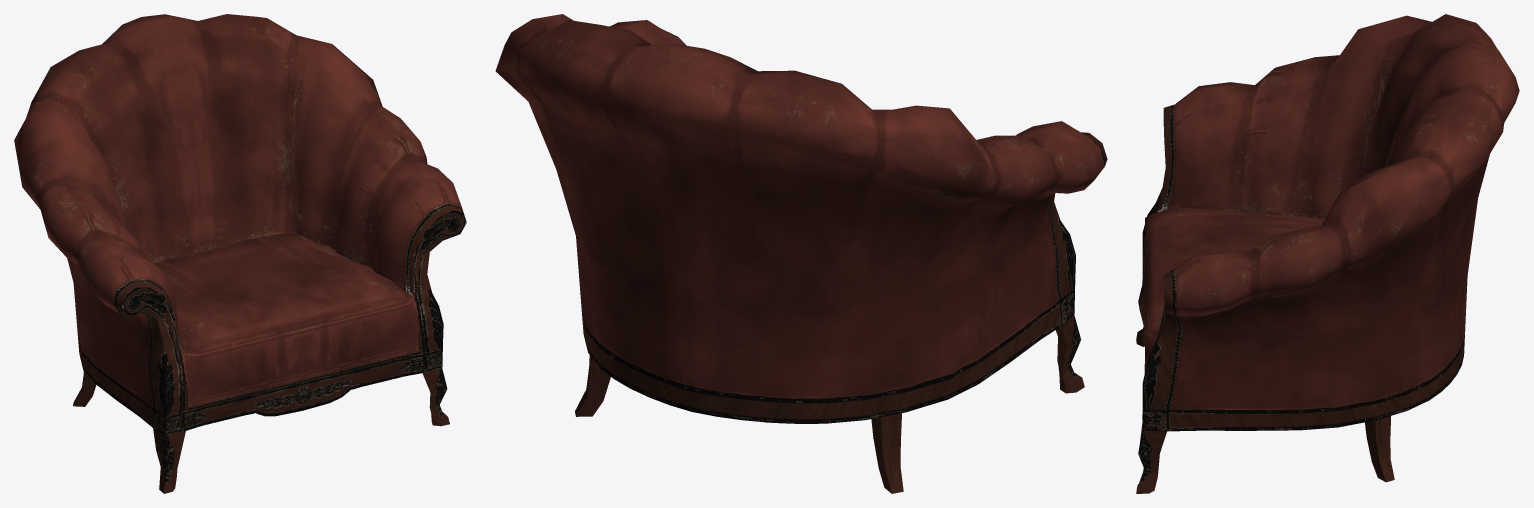
Rendered from CHAIR_SOFA_23-10.gltf.
The picture shows the model from 3 angles, left to right: view 1: azimuth 30°, elevation 25°; view 2: azimuth 150°, elevation 25°; view 3: azimuth 270°, elevation 25°; orthographic projection. The views are drawn at different scales.
Parts seen in each view (by area): view 1: Sofa020_001_Sofa020_0; view 2: Sofa020_001_Sofa020_0; view 3: Sofa020_001_Sofa020_0.
Boxes of the visible parts, x1=… form: Sofa020_001_Sofa020_0: x1=14, y1=14, x2=466, y2=493; Sofa020_001_Sofa020_0: x1=495, y1=14, x2=1107, y2=493; Sofa020_001_Sofa020_0: x1=1136, y1=14, x2=1519, y2=493.
Size of the model in its own units: 0.4265 by 0.3614 by 0.3466.
Materials: 1 (1 with a texture image).
